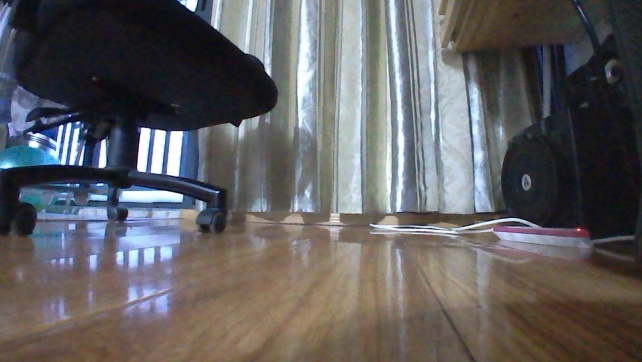wire: (365, 212, 540, 237), (587, 232, 637, 247)
